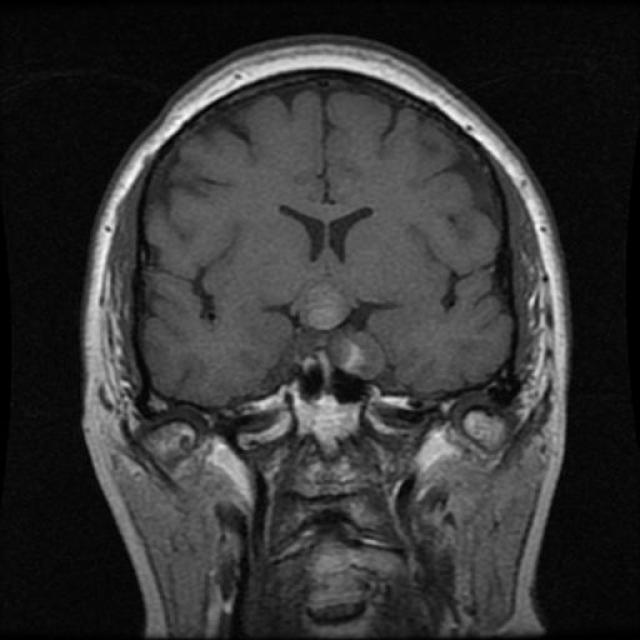pituitary: (290, 262, 400, 386)
